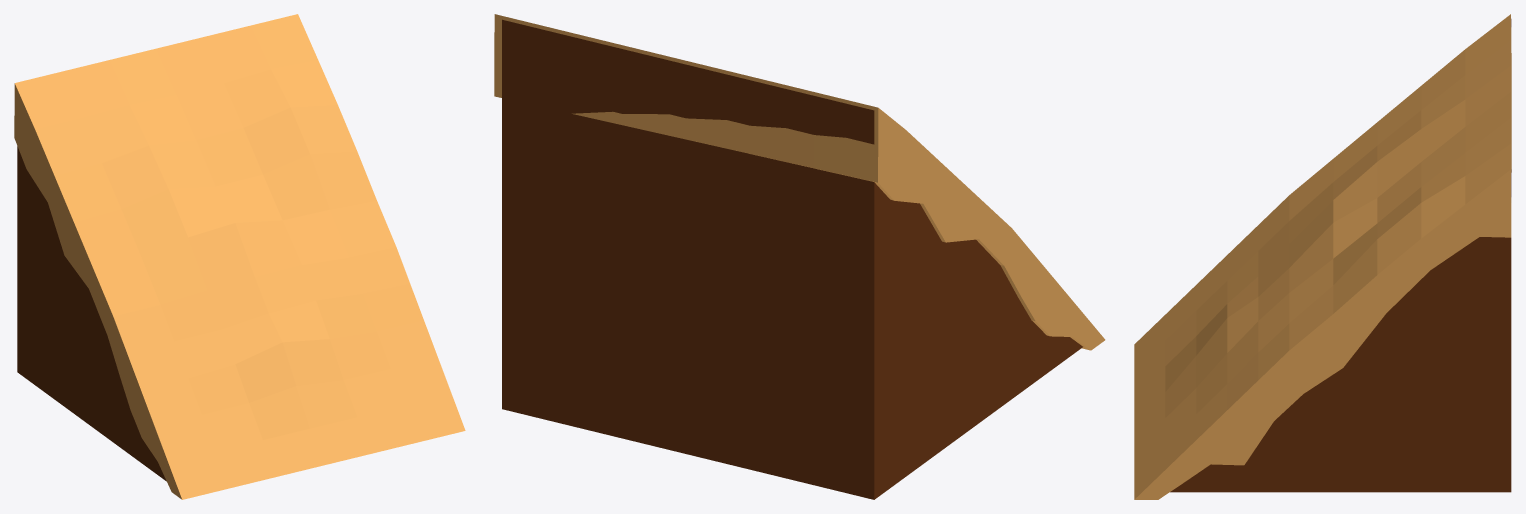
File: IsometricTile_Between_Hill.fbx
3 views of the same model, side by side, from view 1: azimuth 30°, elevation 25°; view 2: azimuth 150°, elevation 25°; view 3: azimuth 270°, elevation 25° (orthographic). The views are drawn at different scales.
Parts seen in each view (by area): view 1: Cube.004; view 2: Cube.004; view 3: Cube.004.
Boxes of the visible parts, <box> form: Cube.004: <box>14,14,465,499</box>; Cube.004: <box>494,14,1105,499</box>; Cube.004: <box>1134,14,1511,499</box>.
Size of the model in its own units: 1.06 by 1.03 by 1.02.
